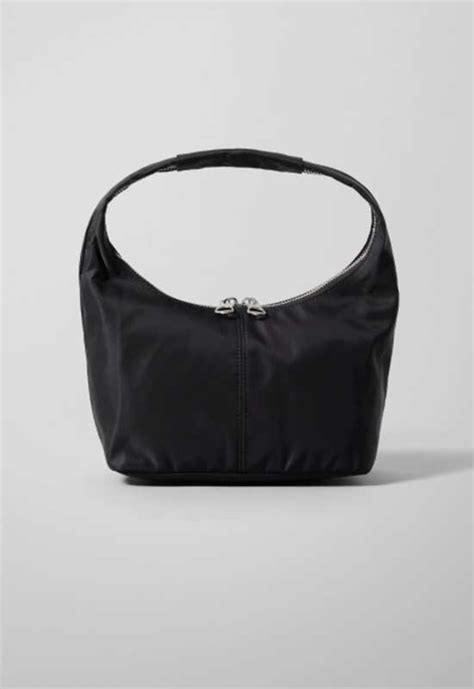nylon: (78, 149, 401, 486)
